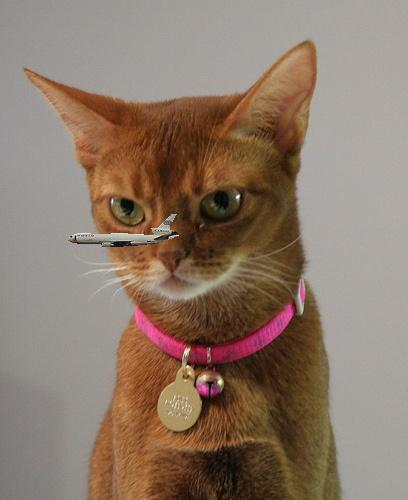tampered: (69, 215, 179, 247)
